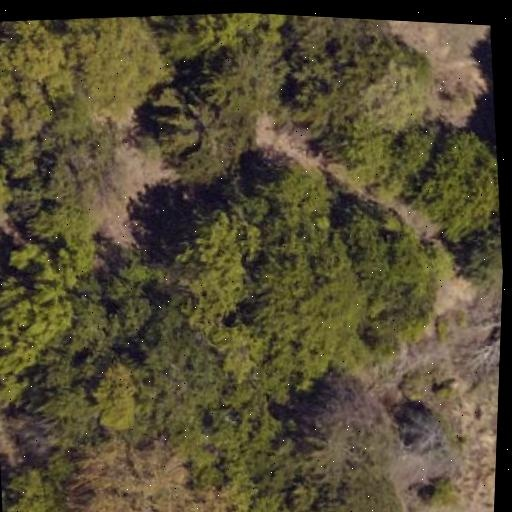tree-top: (236, 210, 375, 389), (145, 60, 269, 188), (0, 237, 99, 394), (157, 200, 266, 332), (300, 36, 437, 141), (135, 312, 246, 438), (39, 108, 160, 222), (51, 10, 172, 123), (303, 366, 404, 486), (408, 119, 505, 238), (82, 431, 213, 512), (8, 350, 107, 452), (57, 258, 150, 358), (202, 379, 279, 496), (384, 393, 469, 495), (144, 8, 296, 63), (324, 110, 403, 195), (81, 350, 153, 443), (204, 310, 281, 386), (294, 15, 398, 69), (0, 448, 79, 512), (0, 67, 59, 149), (0, 15, 68, 83), (323, 469, 408, 512), (0, 142, 15, 223), (249, 487, 294, 512)
